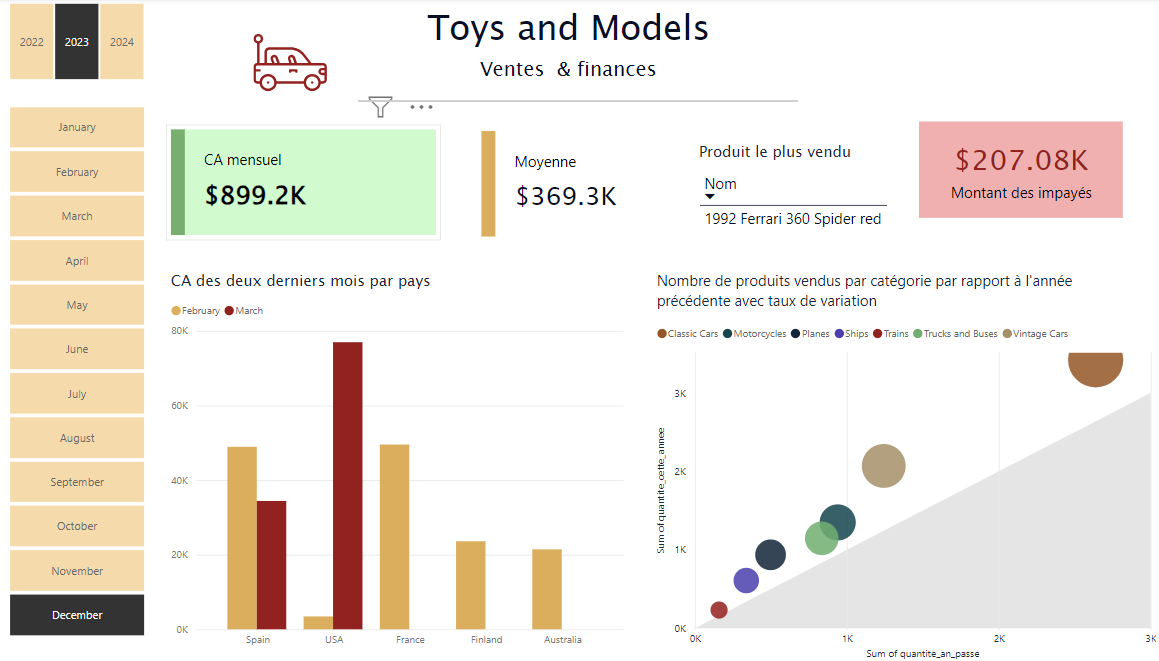

Layout of this report page (visuals, bound fields, positions):
{"tool":"powerbi","page":{"name":"Vente & Finance","canvas":[1280,720],"ordinal":0},"visuals":[{"type":"textbox","box":[453.1,0,362.7,76.1],"z":0},{"type":"textbox","box":[527.5,57.3,272.2,54.6],"z":1000},{"type":"slicer","fields":{"Values":["DateTable.Date.Variation.Date Hierarchy.Month"]},"box":[0,111.5,194.6,583.9],"z":2000},{"type":"slicer","fields":{"Values":["DateTable.Date.Variation.Date Hierarchy.Year"]},"box":[0,0,194.3,95.5],"z":3000},{"type":"cardVisual","title":"CA mensuel","fields":{"Data":["Sum(CA global.chiffre Affaire)"]},"box":[194.3,137.6,296.3,124.7],"z":4000},{"type":"cardVisual","title":"CA mensuel moyen","fields":{"Data":["CA global.Moyenne"]},"box":[530,138.6,188.6,124.3],"z":5000},{"type":"scatterChart","title":"Nombre de produits vendus par catégorie par rapport à l''année précédente avec taux de variation","fields":{"X":["Sum(Vente bis.quantite_an_passe)"],"Y":["Sum(Vente bis.quantite_cette_annee)"],"Series":["Vente bis.categorie"],"Size":["Sum(Vente bis.quantite_cette_annee)"]},"box":[718.2,294.6,549,425.4],"z":6000},{"type":"tableEx","title":"Produit le plus vendu","fields":{"Values":["bestsellers.productName"]},"box":[1026.3,146.9,253.4,107.5],"z":7000},{"type":"clusteredColumnChart","title":"CA des deux derniers mois par pays","fields":{"Category":["CA pays 2 mois.country"],"Y":["Sum(CA pays 2 mois.chiffreDAffaire)"],"Series":["CA pays 2 mois.mois"]},"box":[194.3,294.6,498.8,415.5],"z":8000},{"type":"shape","box":[401.7,36.7,475,150],"z":9000},{"type":"pivotTable","fields":{"Values":["CA global.Icone"]},"box":[261,0,165.7,137.1],"z":10000},{"type":"card","fields":{"Values":["Sum(Query1.TOTAL DUE)"]},"box":[753.1,148.7,220.3,103.9],"z":11000}]}

Visuals, with their boxes in screenshot pixels (x1, y1, x2, y2), scaled from the page's 1280x720 canvas onto the 1159x661 screenshot:
textbox: <region>410, 0, 739, 70</region>
textbox: <region>478, 53, 724, 103</region>
slicer - DateTable.Date.Variation.Date Hierarchy.Month: <region>0, 102, 176, 638</region>
slicer - DateTable.Date.Variation.Date Hierarchy.Year: <region>0, 0, 176, 88</region>
"CA mensuel" cardVisual: <region>176, 126, 444, 241</region>
"CA mensuel moyen" cardVisual: <region>480, 127, 651, 241</region>
"Nombre de produits vendus par catégorie par rapport à l''année précédente avec taux de variation" scatterChart: <region>650, 270, 1147, 660</region>
"Produit le plus vendu" tableEx: <region>929, 135, 1158, 234</region>
"CA des deux derniers mois par pays" clusteredColumnChart: <region>176, 270, 628, 652</region>
shape: <region>364, 34, 794, 171</region>
pivotTable - CA global.Icone: <region>236, 0, 386, 126</region>
card - Sum(Query1.TOTAL DUE): <region>682, 137, 881, 232</region>
